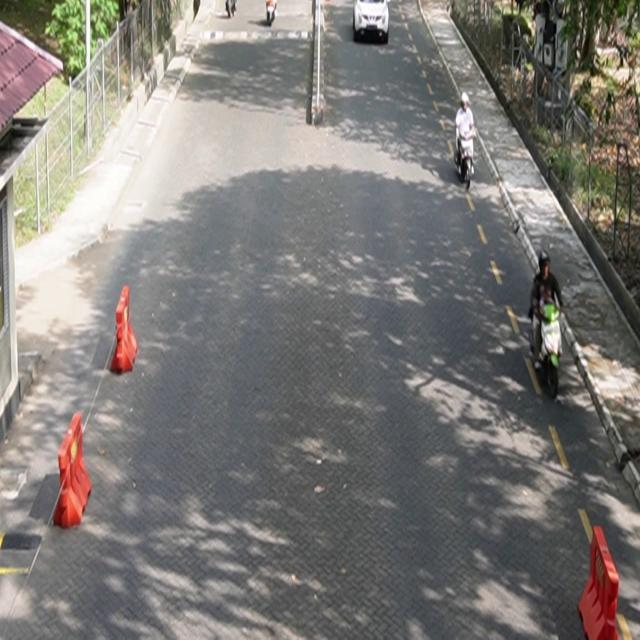car: (353, 1, 390, 44)
